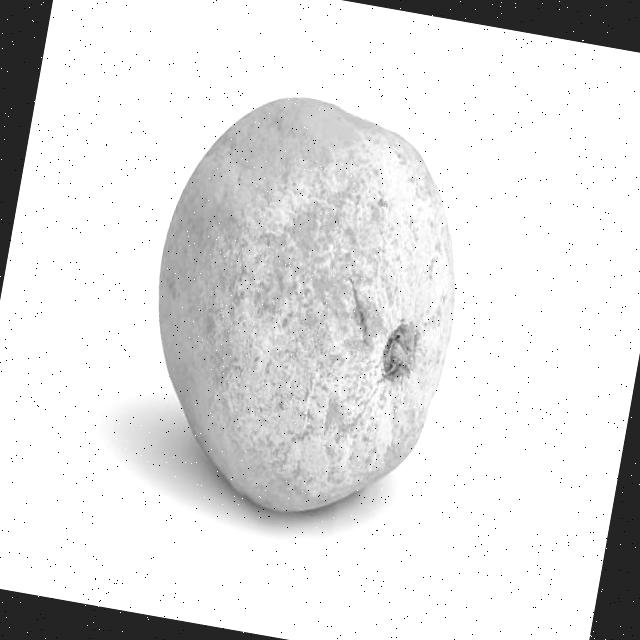overripe: (122, 75, 483, 532)
